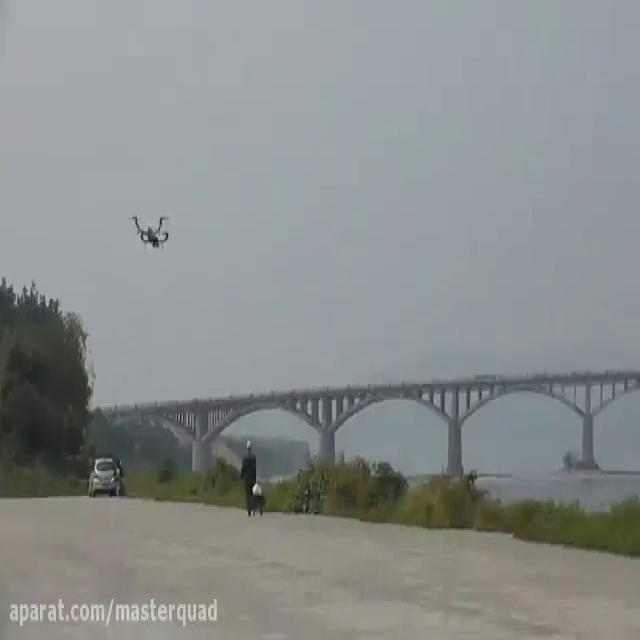drone: (129, 208, 171, 252)
